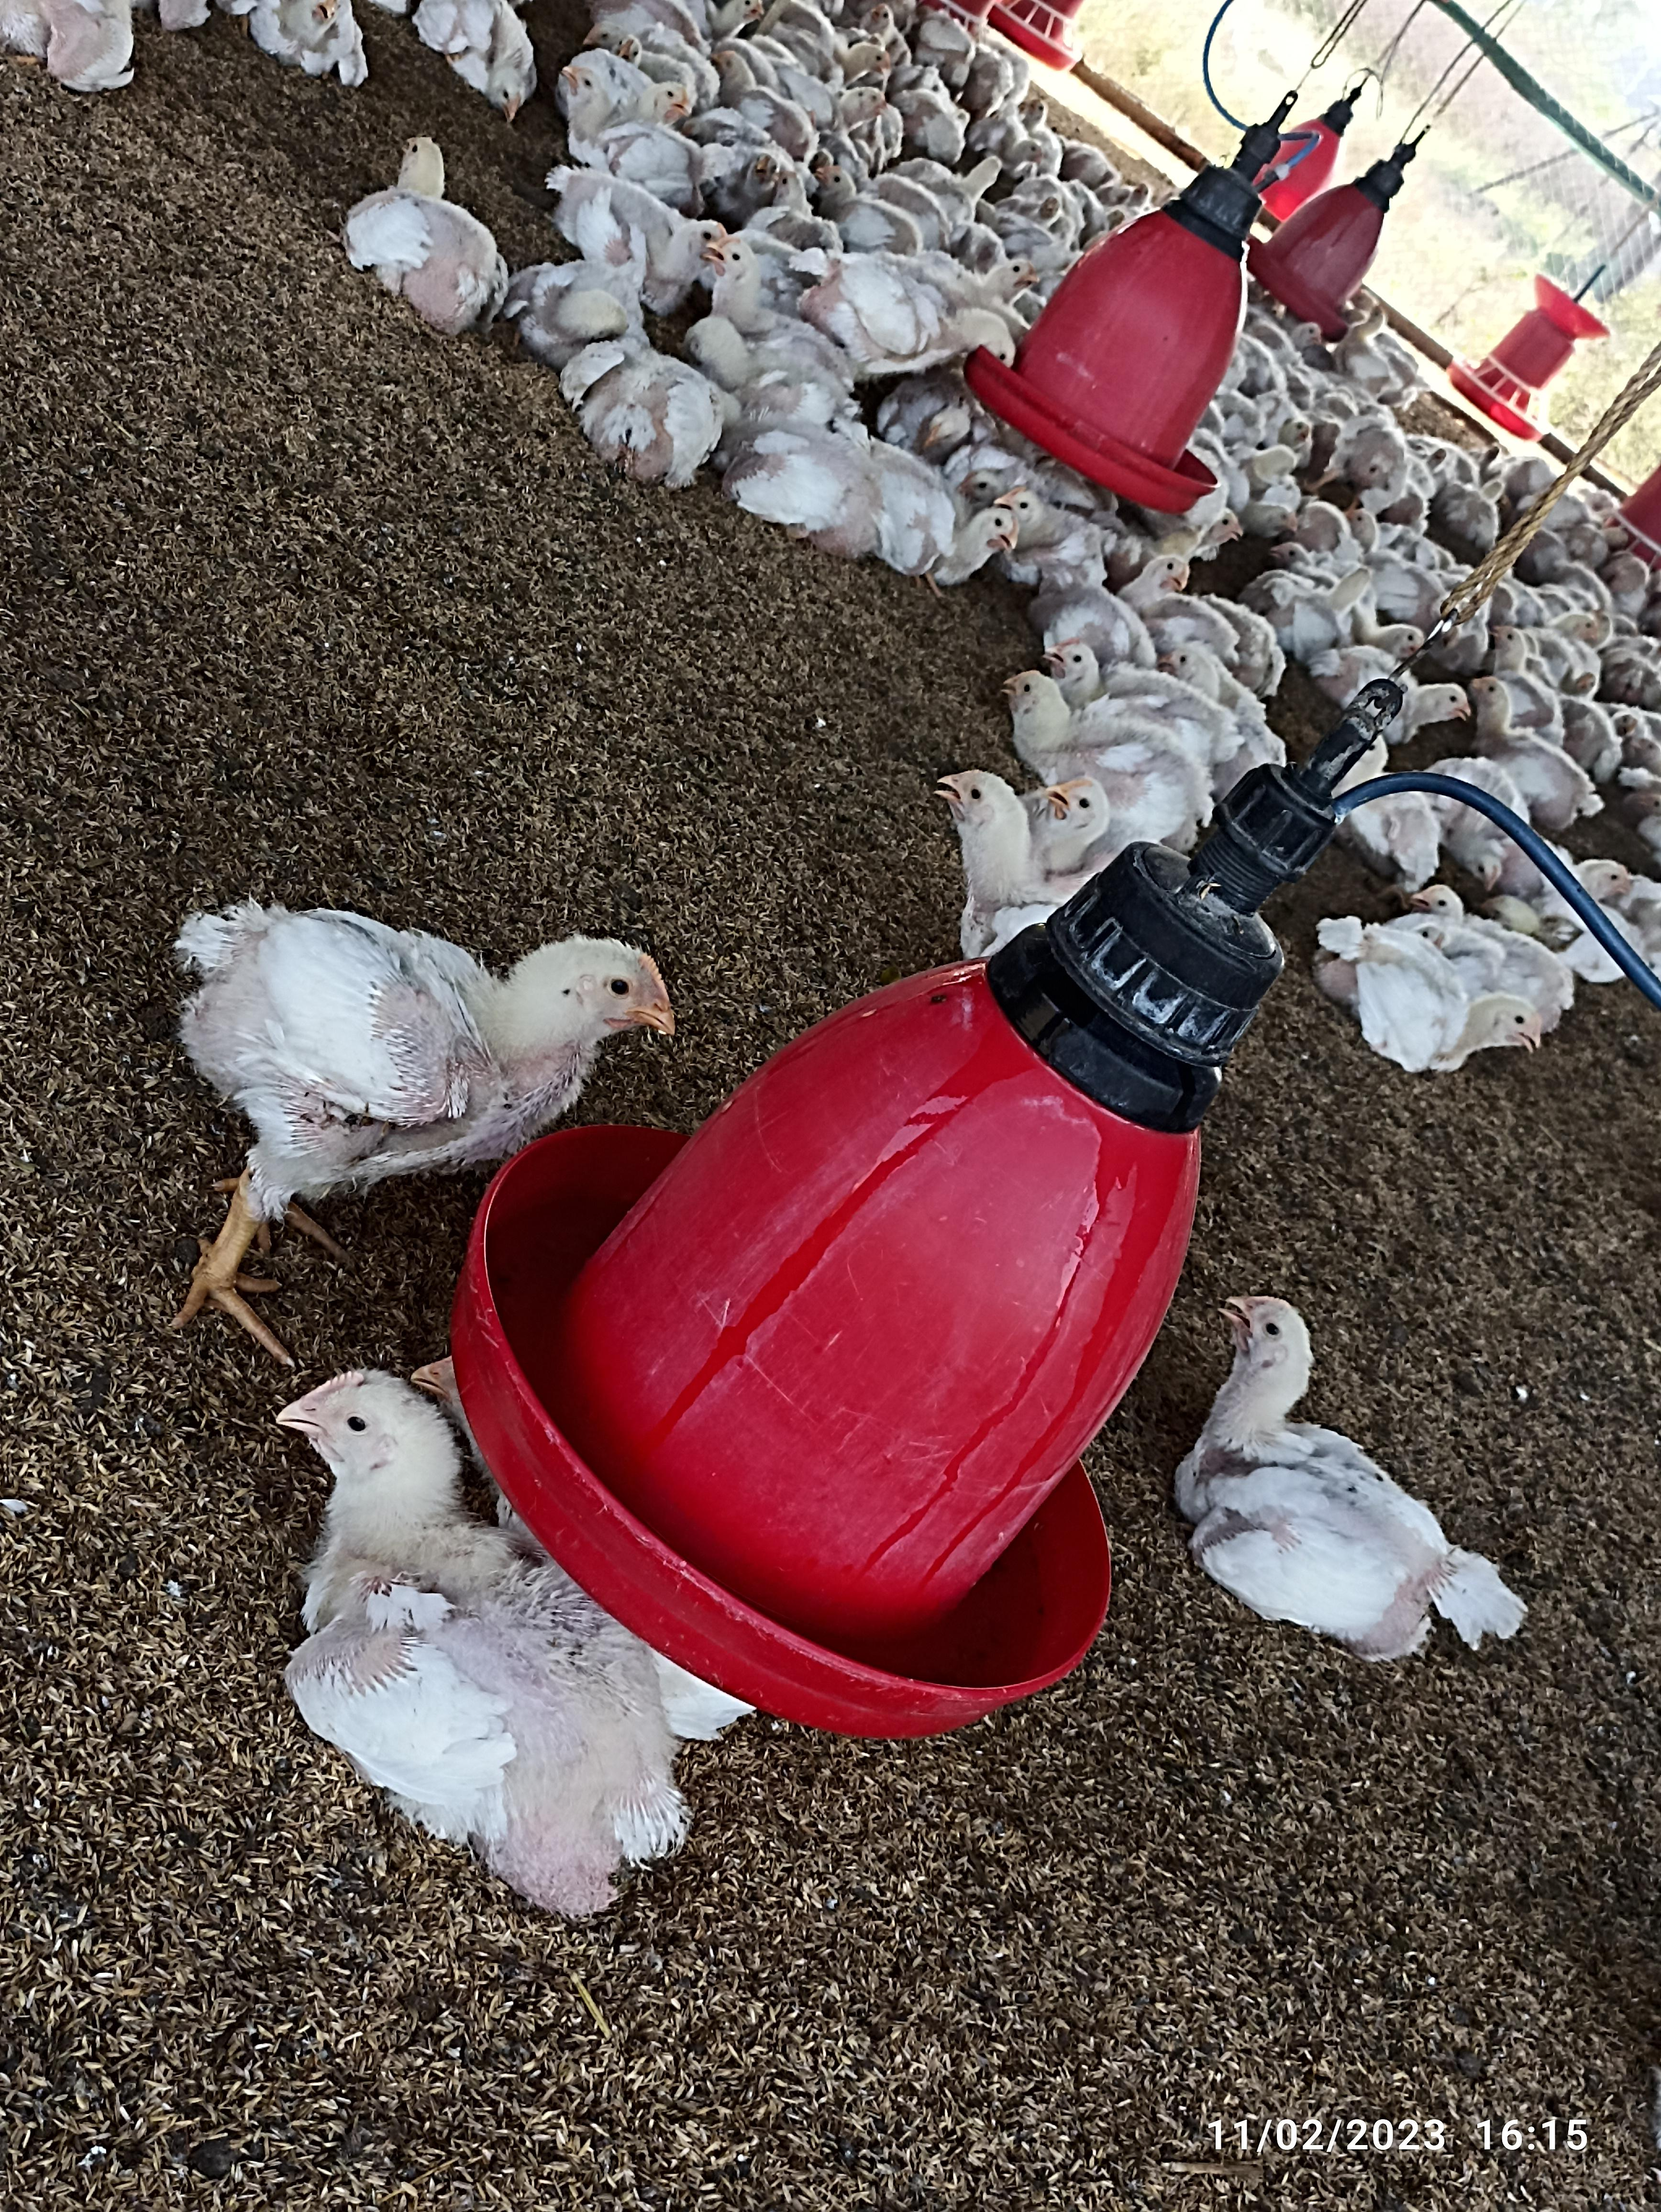Pollos: (262, 1359, 684, 1840), (1209, 1275, 1523, 1666), (211, 918, 680, 1174), (1335, 925, 1567, 1080), (996, 661, 1206, 820), (342, 131, 494, 311), (837, 441, 1028, 581), (684, 220, 829, 379), (576, 340, 717, 485)
